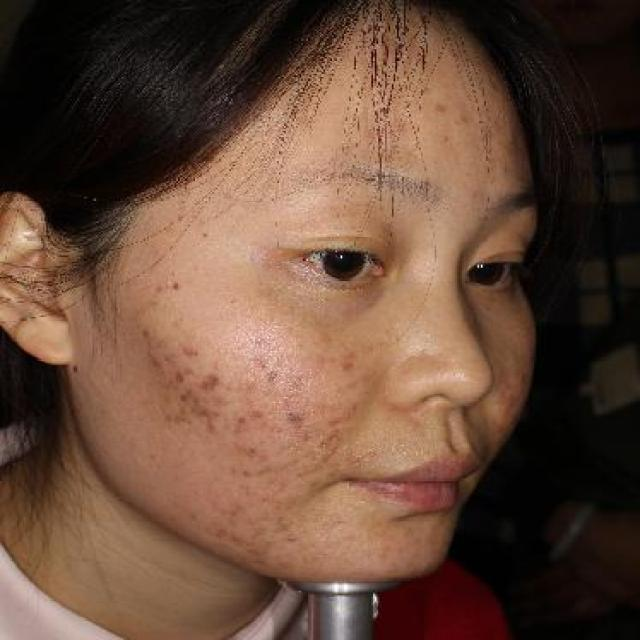Acne: (142, 344, 171, 384), (192, 401, 226, 434), (250, 342, 281, 376), (424, 88, 455, 121), (195, 369, 228, 397), (269, 512, 296, 538), (279, 408, 311, 429), (170, 363, 198, 385), (228, 412, 253, 436), (252, 459, 277, 483), (226, 500, 248, 526), (320, 431, 347, 451), (178, 342, 204, 362), (134, 323, 159, 343), (264, 370, 289, 390), (336, 354, 358, 375), (230, 462, 253, 482), (248, 404, 270, 424), (346, 399, 364, 423), (323, 409, 344, 429), (241, 442, 262, 462), (281, 452, 301, 472), (226, 529, 248, 545)
Dark-Spots: (198, 227, 213, 242), (69, 363, 84, 378)
